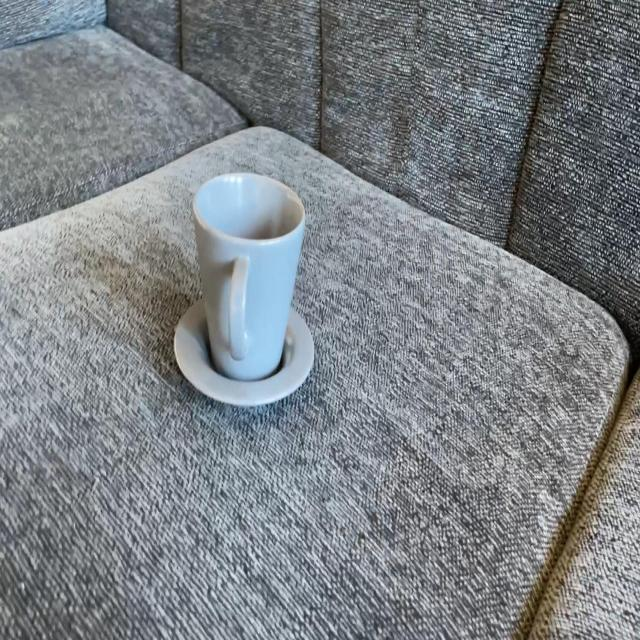cup: (174, 172, 316, 411)
